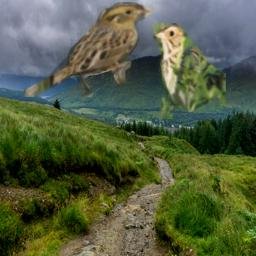Sparrow: (24, 2, 154, 97), (153, 23, 226, 119)
